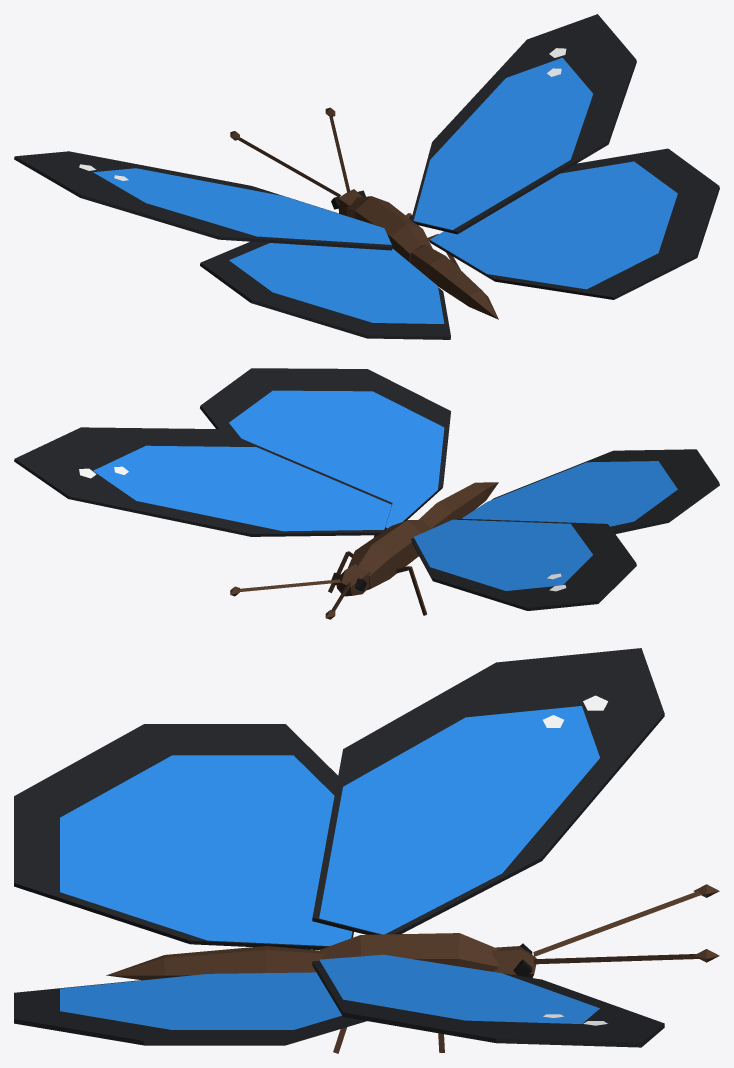
Rendered from morfo.glb.
3 renders of one model, top to bottom at view 1: azimuth 30°, elevation 25°; view 2: azimuth 150°, elevation 25°; view 3: azimuth 270°, elevation 25°, orthographic. The views are drawn at different scales.
Visible parts, largest first — view 1: corpo; view 2: corpo; view 3: corpo.
Boxes of the visible parts, x1=… form: corpo: x1=14, y1=14, x2=719, y2=339; corpo: x1=14, y1=368, x2=719, y2=619; corpo: x1=14, y1=648, x2=719, y2=1053.
Bounding box in the file's own units: 1 × 0.2074 × 0.7535.
